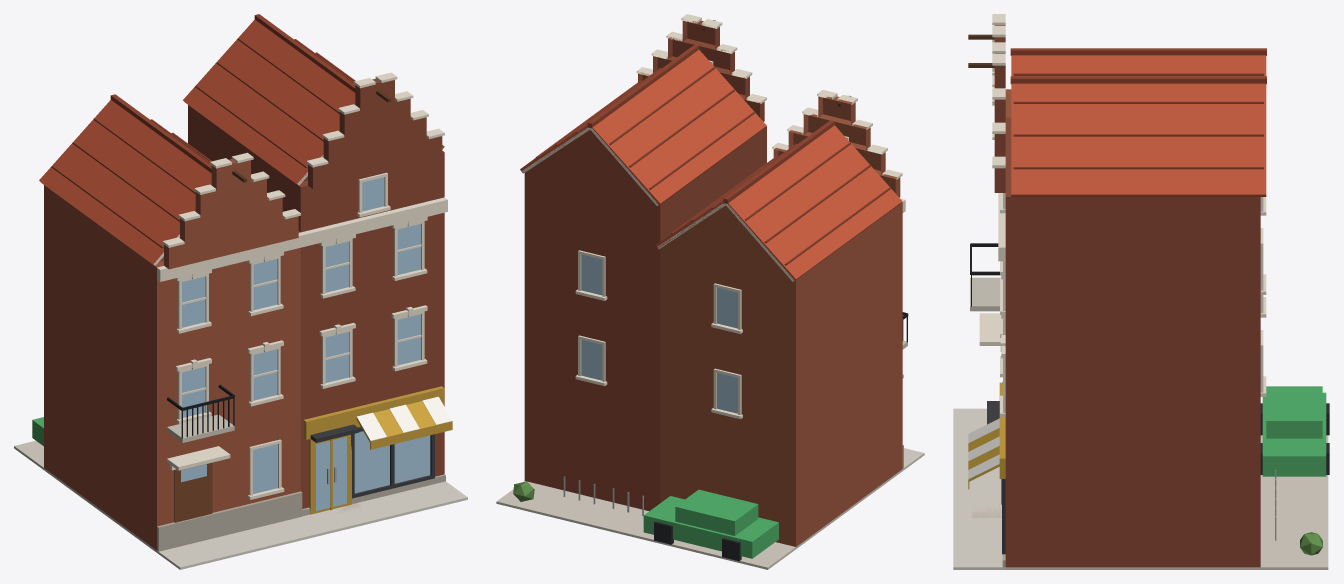
The model's file is Blok_duz_3k_5_Hafif.fbx.
3 views of the same model, side by side, from view 1: azimuth 30°, elevation 25°; view 2: azimuth 150°, elevation 25°; view 3: azimuth 270°, elevation 25° (orthographic). The views are drawn at different scales.
Visible parts, largest first — view 1: Blok_duz_3k_5_Hafif; view 2: Blok_duz_3k_5_Hafif; view 3: Blok_duz_3k_5_Hafif.
Part boxes in pixels (<box>): Blok_duz_3k_5_Hafif: <box>14,14,467,569</box>; Blok_duz_3k_5_Hafif: <box>496,14,924,569</box>; Blok_duz_3k_5_Hafif: <box>953,14,1329,569</box>.
Bounding box in the file's own units: 10.18 × 14.1 × 10.04.
